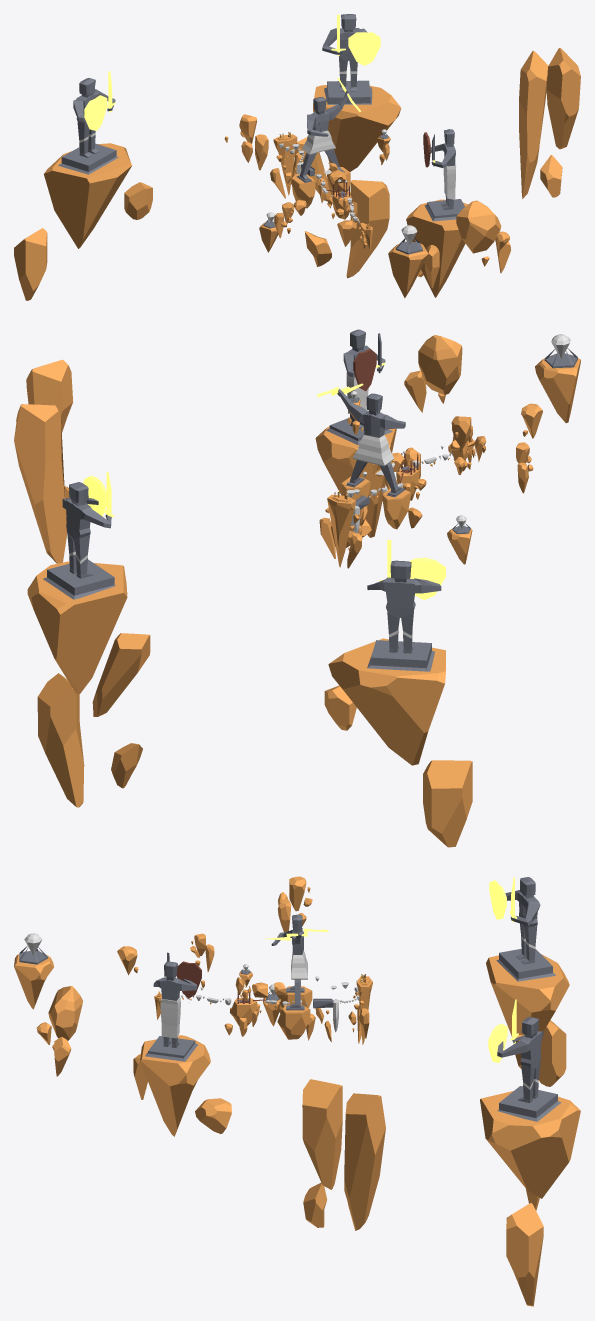
Rendered from PrometheusFinal.fbx.
3 renders of one model, top to bottom at view 1: azimuth 30°, elevation 25°; view 2: azimuth 150°, elevation 25°; view 3: azimuth 270°, elevation 25°, orthographic. The views are drawn at different scales.
Visible parts, largest first — view 1: Rocks_small_3.016, Rocks_small_3.036, Warrior1.001, Warrior1, Rocks_small_5.017, Rocks_small_5.018, Rocks_small_5.013, Rocks_small_3.017, Warrior2, Zeus, Rocks_small_5.011, Island1.009 (+10 smaller); view 2: Rocks_small_3.016, Rocks_small_3.036, Rocks_small_5.017, Warrior1, Warrior1.001, Rocks_small_5.013, Rocks_small_5.011, Zeus, Rocks_small_3.017, Rocks_small_5.012, Warrior2, Island1.009 (+7 smaller); view 3: Rocks_small_3.036, Rocks_small_5.017, Warrior1.001, Rocks_small_5.018, Rocks_small_3.016, Warrior1, Rocks_small_3.017, Warrior2, Rocks_small_5.013, Zeus, Rocks_small_5.011, Island1.009 (+5 smaller).
Part boxes in pixels (x1,y1,x2,y2): Rocks_small_3.016: [44, 143, 132, 248]; Rocks_small_3.036: [313, 85, 401, 171]; Warrior1.001: [322, 14, 380, 104]; Warrior1: [58, 71, 118, 174]; Rocks_small_5.017: [519, 51, 548, 198]; Rocks_small_5.018: [546, 48, 580, 149]; Rocks_small_5.013: [346, 180, 389, 278]; Rocks_small_3.017: [406, 199, 467, 297]; Warrior2: [423, 129, 464, 221]; Zeus: [296, 77, 360, 182]; Rocks_small_5.011: [14, 228, 47, 300]; Island1.009: [456, 200, 501, 253]; Rocks_small_3.016: [328, 638, 445, 765]; Rocks_small_3.036: [27, 561, 127, 693]; Rocks_small_5.017: [14, 404, 66, 563]; Warrior1: [367, 540, 445, 671]; Warrior1.001: [43, 471, 115, 599]; Rocks_small_5.013: [37, 673, 84, 807]; Rocks_small_5.011: [423, 760, 472, 847]; Zeus: [317, 383, 405, 497]; Rocks_small_3.017: [315, 426, 396, 537]; Rocks_small_5.012: [92, 633, 150, 716]; Warrior2: [326, 329, 392, 444]; Island1.009: [418, 335, 462, 394]; Rocks_small_3.036: [480, 1091, 580, 1198]; Rocks_small_5.017: [344, 1093, 385, 1230]; Warrior1.001: [488, 999, 561, 1121]; Rocks_small_5.018: [302, 1079, 342, 1189]; Rocks_small_3.016: [486, 954, 569, 1036]; Warrior1: [489, 877, 555, 981]; Rocks_small_3.017: [140, 1035, 210, 1136]; Warrior2: [145, 952, 201, 1061]; Rocks_small_5.013: [506, 1203, 543, 1306]; Zeus: [264, 914, 328, 1010]; Rocks_small_5.011: [539, 1020, 566, 1086]; Island1.009: [48, 986, 82, 1040].
Size of the model in its own units: 111545 by 68244 by 108931.
